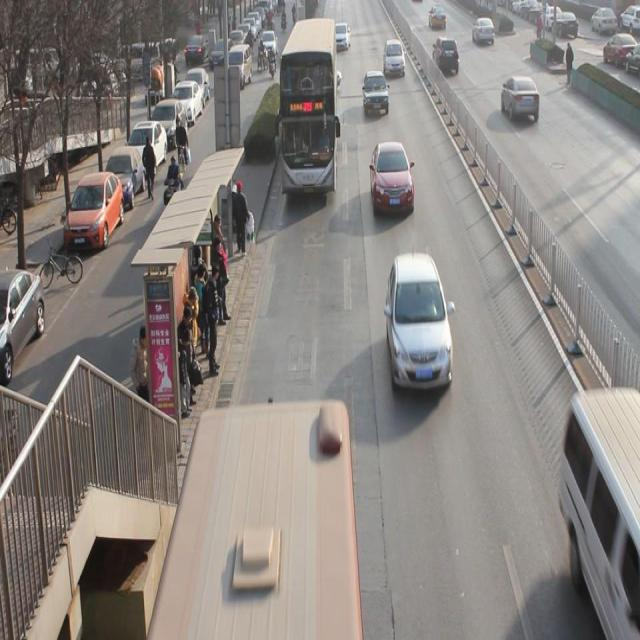car: (385, 261, 454, 390), (370, 143, 415, 214), (501, 76, 541, 124), (290, 60, 342, 93), (362, 70, 389, 118), (432, 36, 460, 78), (383, 39, 405, 80), (332, 21, 352, 52), (472, 19, 495, 45)
truck: (562, 398, 640, 626)
van: (143, 406, 360, 640), (278, 16, 336, 191)
